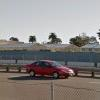Car: (21, 55, 75, 83)
